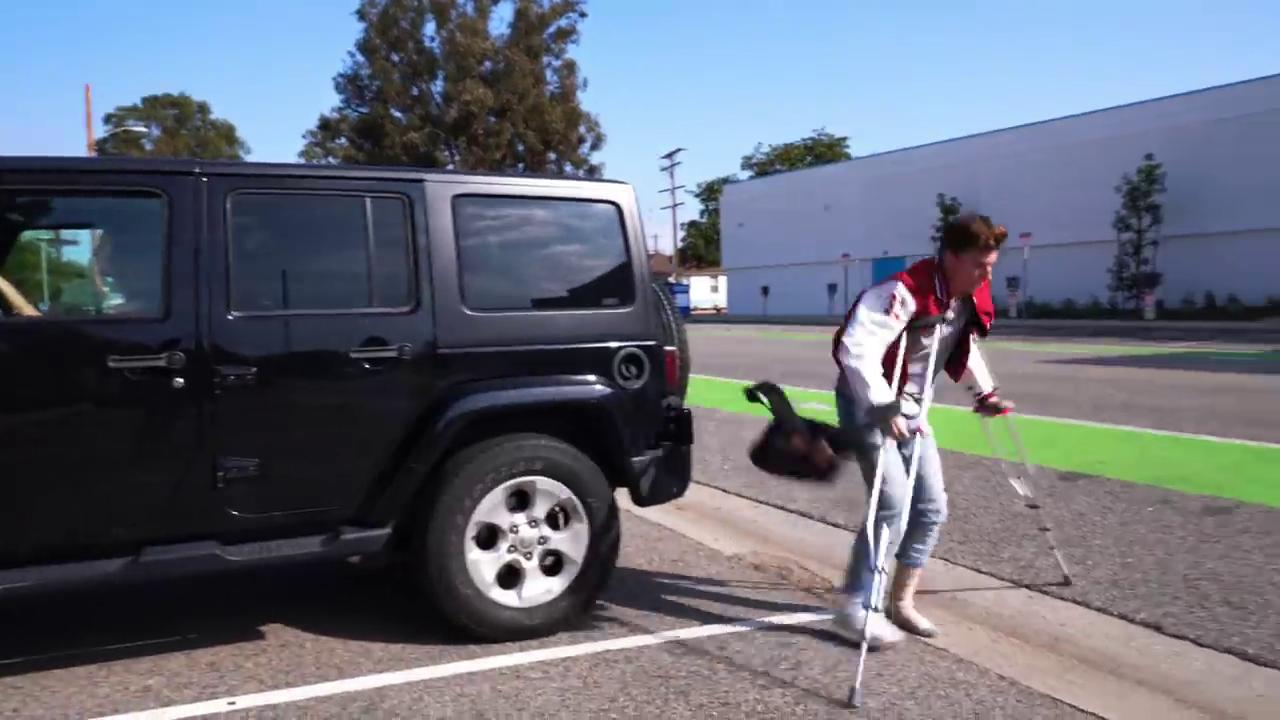crutches: (831, 217, 1071, 707)
